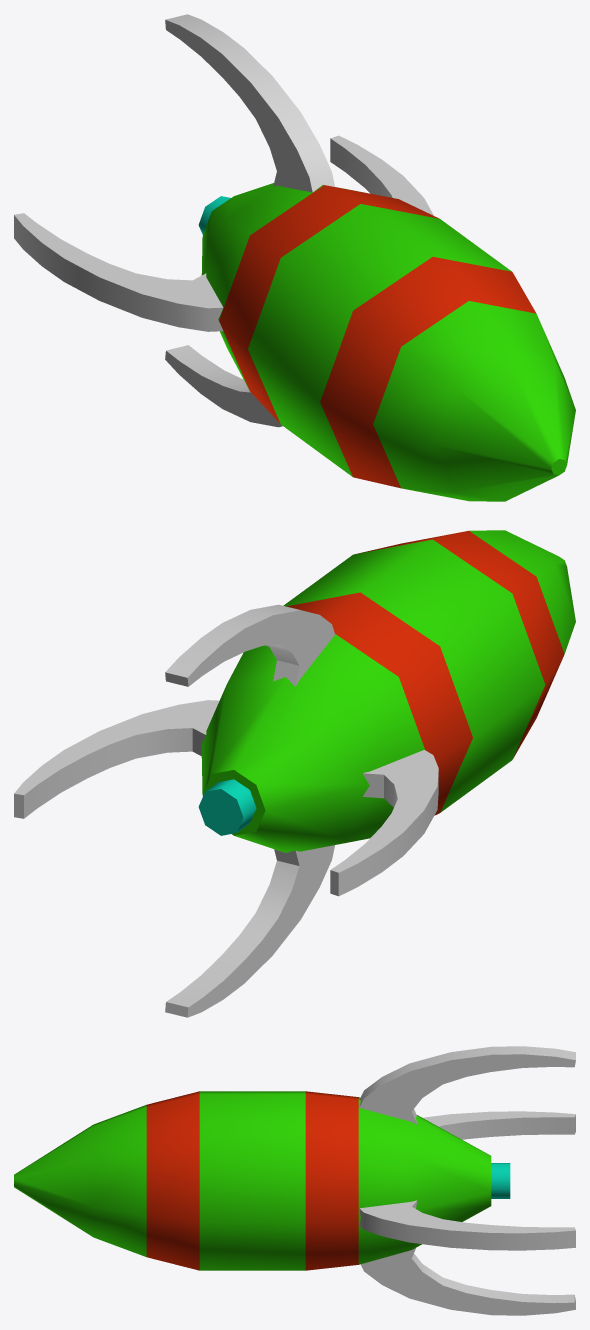
File: Fodder.fbx
The picture shows the model from 3 angles, top to bottom: view 1: azimuth 30°, elevation 25°; view 2: azimuth 150°, elevation 25°; view 3: azimuth 270°, elevation 25°; orthographic projection. The views are drawn at different scales.
Parts seen in each view (by area): view 1: Cylinder, Cube.002; view 2: Cylinder, Cube.002, Cylinder.001; view 3: Cylinder, Cube.002, Cylinder.001.
Part boxes in pixels (x1,y1,x2,y2): Cylinder: (201, 183, 575, 501); Cube.002: (14, 14, 433, 427); Cylinder: (201, 530, 575, 852); Cube.002: (14, 604, 438, 1017); Cylinder.001: (198, 779, 256, 835); Cylinder: (14, 1091, 491, 1270); Cube.002: (359, 1046, 575, 1315); Cylinder.001: (491, 1163, 510, 1198).
Size of the model in its own units: 181 by 181 by 353.
